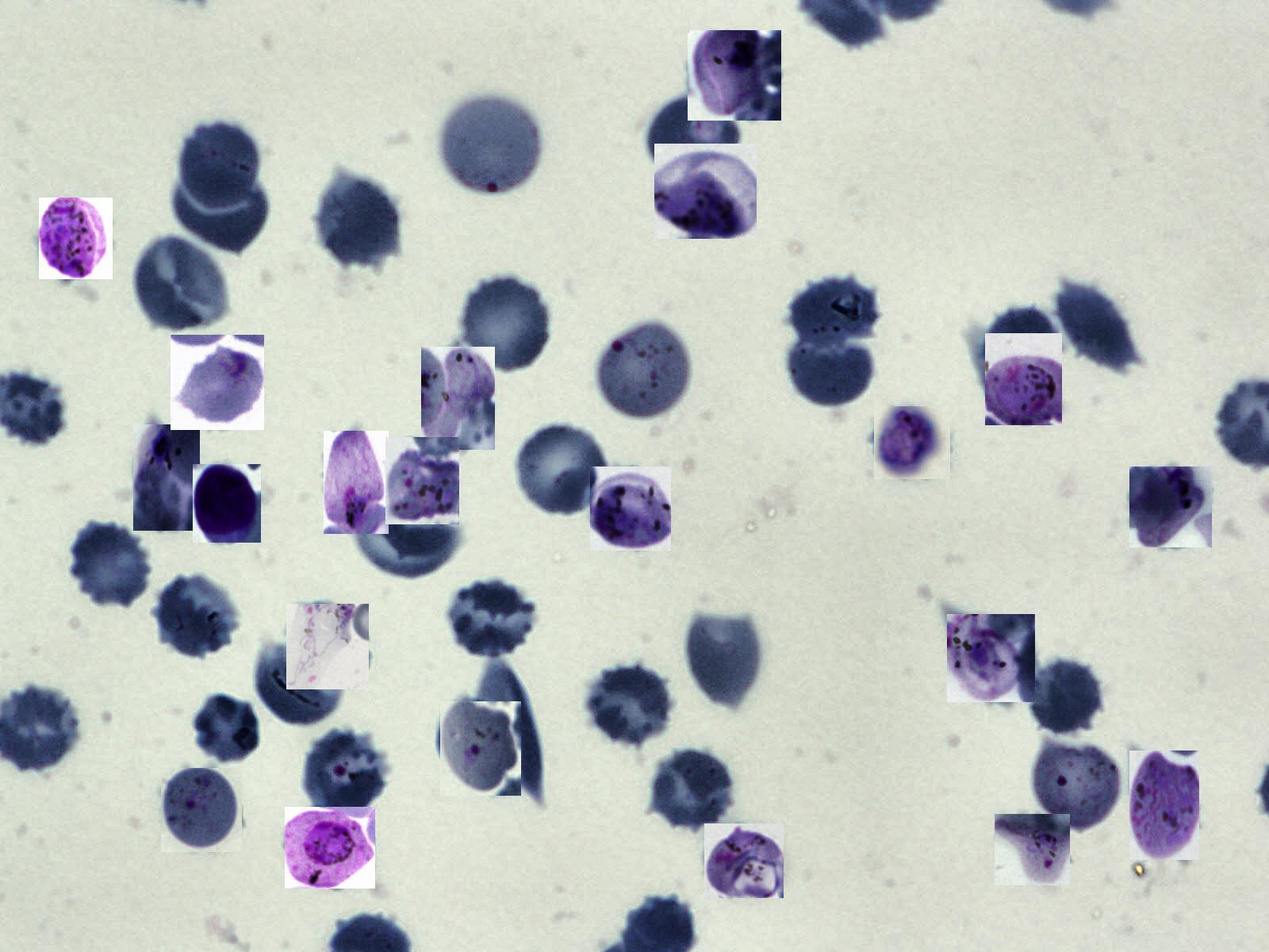Infected: (442, 92, 541, 197), (596, 318, 692, 421), (654, 144, 757, 239), (171, 335, 264, 430), (1029, 739, 1124, 831), (688, 30, 781, 121), (301, 727, 388, 818), (947, 614, 1035, 702), (440, 701, 521, 796), (1129, 751, 1199, 860), (421, 347, 495, 450), (285, 807, 375, 889), (133, 425, 200, 532), (985, 333, 1062, 425), (286, 604, 369, 689), (590, 466, 671, 551), (161, 768, 242, 852), (1129, 466, 1212, 547), (324, 432, 389, 535), (385, 437, 459, 524), (39, 198, 113, 280), (704, 823, 784, 898), (874, 406, 950, 479), (193, 464, 261, 543), (995, 814, 1070, 885)
Uninfected: (345, 464, 462, 579), (473, 653, 545, 798), (132, 236, 228, 333), (461, 274, 552, 374), (514, 421, 609, 516), (171, 164, 270, 254), (646, 91, 742, 182), (683, 605, 765, 705), (251, 640, 344, 728), (443, 576, 537, 657), (154, 571, 241, 658), (317, 176, 401, 265), (790, 272, 880, 355), (647, 747, 735, 831), (585, 663, 674, 746), (68, 521, 152, 608), (179, 121, 261, 209), (1056, 281, 1134, 371), (983, 304, 1062, 390), (791, 326, 876, 405), (190, 693, 263, 766), (1031, 658, 1101, 733)
